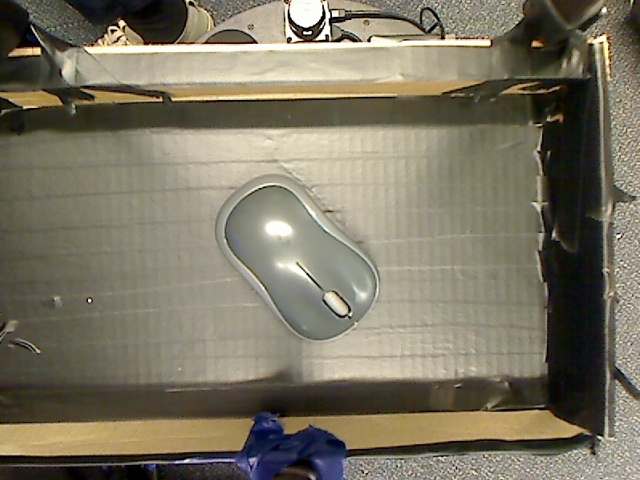mouse: (203, 161, 393, 357)
